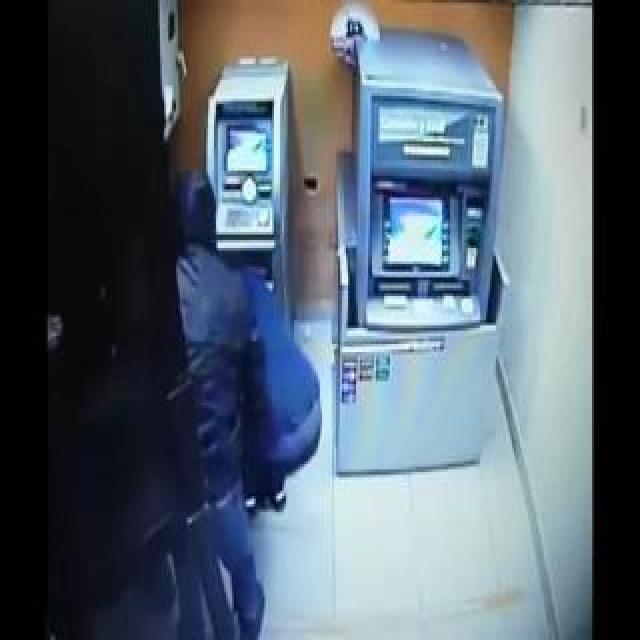thief: (165, 144, 268, 356)
